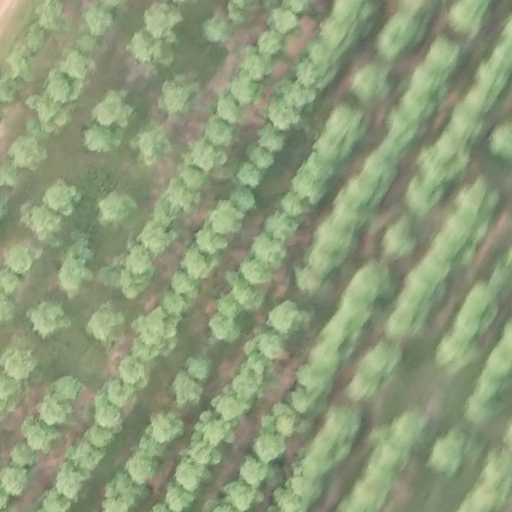eucalipto: (17, 200, 70, 246), (421, 142, 471, 181), (124, 29, 171, 68), (455, 175, 493, 222), (91, 87, 133, 129), (379, 17, 422, 58), (351, 261, 392, 303), (440, 1, 489, 36), (85, 299, 126, 340), (141, 2, 183, 42), (429, 429, 464, 477), (40, 178, 84, 216), (31, 94, 72, 134), (27, 298, 70, 336), (133, 309, 179, 344), (386, 411, 426, 449), (9, 135, 50, 172), (324, 108, 367, 143), (316, 214, 364, 245), (44, 68, 84, 105), (106, 474, 152, 506), (57, 254, 92, 296), (207, 198, 245, 236), (452, 100, 490, 138), (132, 126, 171, 163), (22, 414, 58, 454), (410, 65, 451, 100), (291, 166, 330, 202), (351, 66, 392, 100), (334, 1, 377, 33), (311, 132, 354, 164), (388, 305, 425, 342), (132, 335, 178, 364), (98, 192, 136, 227), (181, 246, 219, 281), (405, 181, 444, 215), (241, 335, 286, 364), (360, 344, 402, 375), (267, 98, 304, 133), (52, 465, 87, 502), (442, 333, 474, 373), (251, 234, 287, 269), (427, 37, 462, 73), (381, 223, 417, 258), (263, 209, 300, 243), (229, 274, 266, 308), (147, 411, 185, 444), (187, 142, 226, 174), (269, 303, 308, 335), (138, 222, 178, 253), (281, 471, 325, 499), (56, 50, 95, 81), (406, 269, 447, 298), (1, 348, 37, 381), (291, 384, 324, 420), (458, 296, 491, 332), (338, 292, 370, 329), (81, 125, 124, 152), (203, 116, 238, 149), (2, 239, 34, 275), (263, 405, 300, 436), (33, 1, 71, 31), (158, 82, 191, 116), (224, 483, 264, 511), (242, 48, 273, 84), (306, 346, 343, 376), (418, 251, 455, 281), (294, 61, 332, 90), (117, 356, 149, 390), (171, 372, 205, 404), (344, 173, 380, 203), (464, 392, 494, 428), (372, 445, 409, 474), (310, 245, 348, 273), (203, 416, 236, 448), (174, 461, 208, 492), (398, 90, 435, 118), (324, 410, 361, 438), (254, 433, 287, 464), (37, 395, 71, 425), (82, 6, 117, 35), (348, 369, 383, 398), (304, 153, 340, 181), (476, 367, 504, 403), (351, 481, 388, 508), (165, 180, 198, 210), (441, 215, 474, 245), (280, 82, 318, 108), (1, 464, 30, 498), (320, 22, 354, 51), (215, 393, 250, 421), (229, 372, 268, 397), (365, 156, 401, 183), (68, 442, 105, 468), (388, 109, 425, 135), (170, 267, 200, 299), (209, 314, 242, 343), (240, 257, 274, 285), (257, 124, 287, 155), (96, 400, 125, 432), (277, 188, 309, 217), (178, 162, 211, 190), (217, 94, 247, 124), (231, 75, 260, 106), (125, 245, 154, 276), (125, 454, 157, 482), (195, 226, 228, 253), (187, 443, 222, 468), (105, 378, 135, 407), (295, 266, 325, 295), (135, 430, 167, 457), (431, 234, 463, 261), (465, 84, 493, 114), (306, 44, 342, 67), (201, 15, 231, 42), (227, 1, 260, 25), (161, 290, 189, 318), (239, 459, 269, 485), (398, 1, 435, 22), (165, 487, 196, 512), (274, 490, 309, 512), (267, 9, 299, 33), (39, 489, 72, 512), (183, 355, 212, 381), (25, 26, 53, 52), (233, 186, 258, 215), (85, 425, 116, 448), (238, 162, 265, 188), (55, 376, 80, 402), (12, 443, 38, 468), (152, 201, 178, 225), (249, 146, 276, 168), (257, 34, 284, 55), (74, 34, 100, 55), (1, 274, 20, 296)
